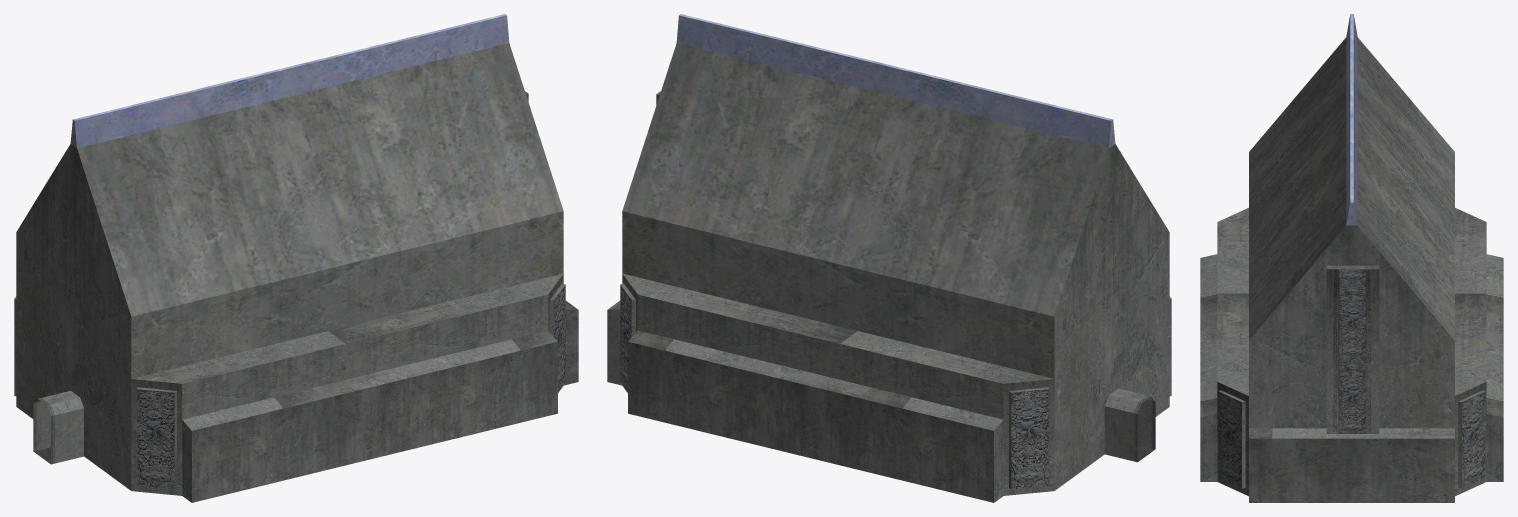
File: thm_yavn_jedi_enclave_dark_r26_council3_mesh.fbx
3 views of the same model, side by side, from view 1: azimuth 30°, elevation 25°; view 2: azimuth 150°, elevation 25°; view 3: azimuth 270°, elevation 25° (orthographic). The views are drawn at different scales.
Visible parts, largest first — view 1: mesh_node; view 2: mesh_node; view 3: mesh_node.
Boxes of the visible parts, x1=… form: mesh_node: x1=14, y1=14, x2=578, y2=502; mesh_node: x1=607, y1=14, x2=1171, y2=502; mesh_node: x1=1200, y1=14, x2=1503, y2=502.
Size of the model in its own units: 31.29 by 20.46 by 19.16.
